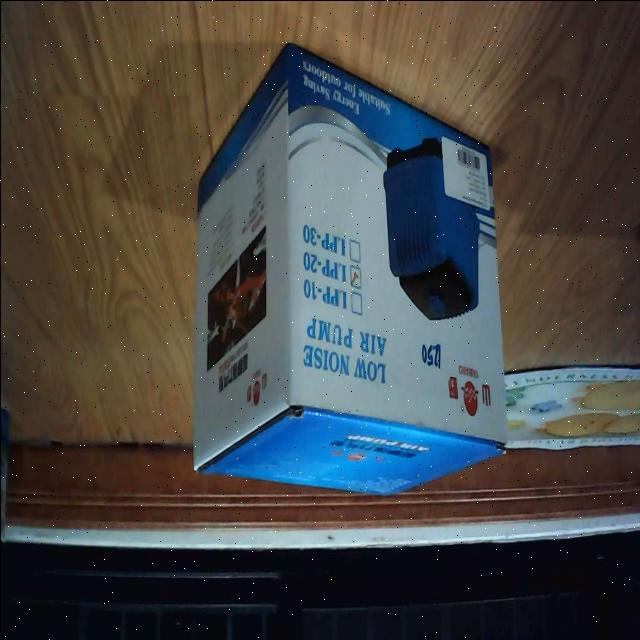YAMANO_LPP_20: (167, 30, 515, 522)
